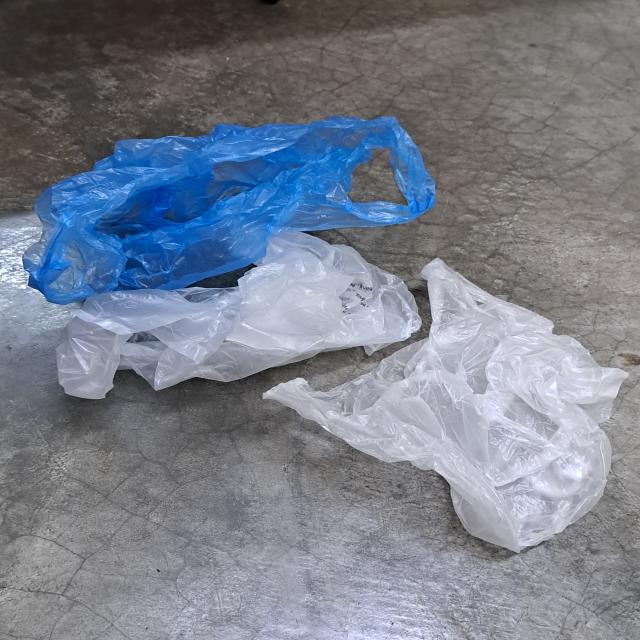plastic bag: (260, 261, 632, 554), (22, 117, 439, 300), (52, 229, 426, 403)
